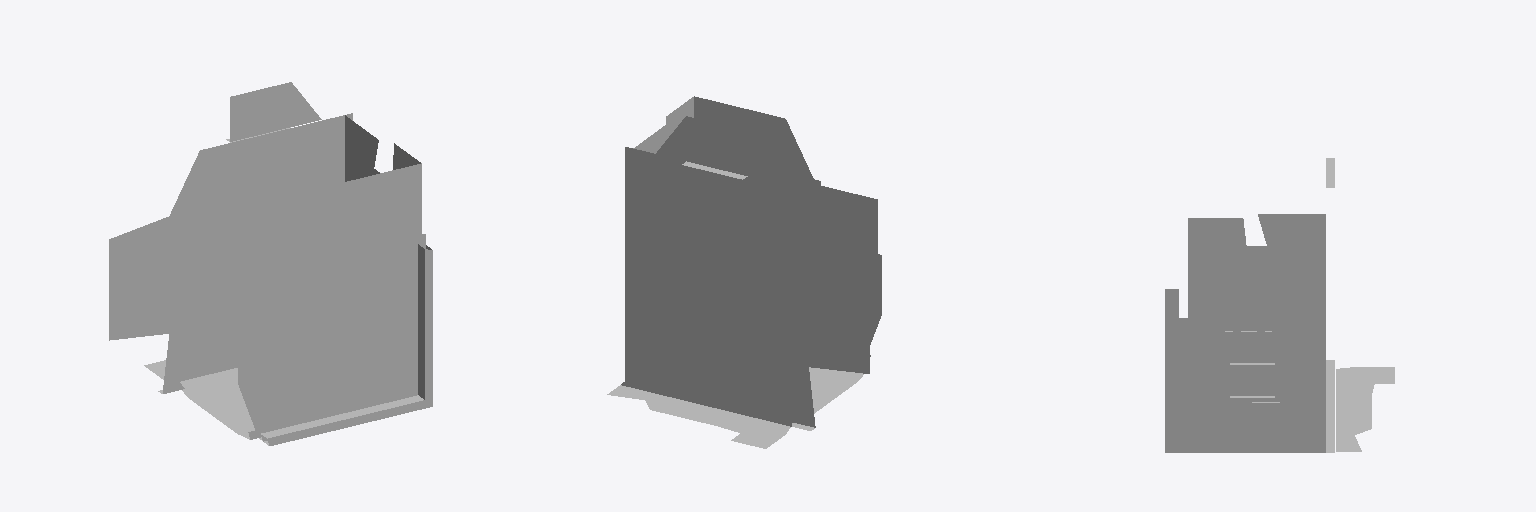
The model's file is Destory3.obj.
3 renders of one model, left to right at view 1: azimuth 30°, elevation 25°; view 2: azimuth 150°, elevation 25°; view 3: azimuth 270°, elevation 25°, orthographic.
Visible parts, largest first — view 1: Destory3; view 2: Destory3; view 3: Destory3.
Part boxes in pixels (left/top/right/bottom): Destory3: left=109, top=82, right=432, bottom=445; Destory3: left=607, top=96, right=881, bottom=448; Destory3: left=1165, top=158, right=1394, bottom=452.
Bounding box in the file's own units: 6.25 × 6.85 × 4.98.